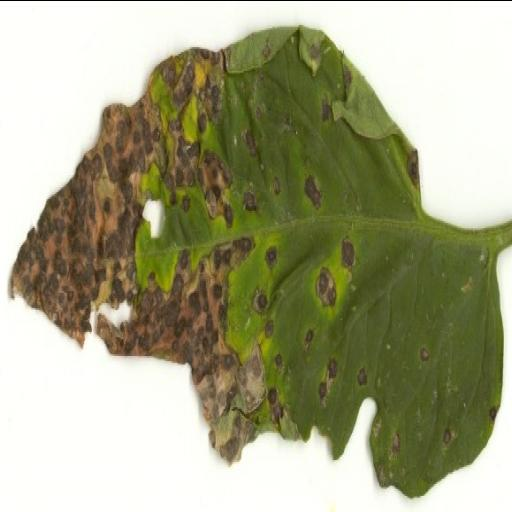Septoria: (6, 18, 512, 500)
